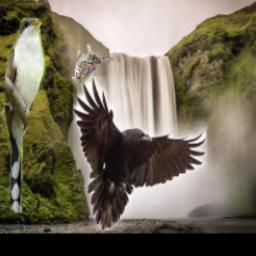Crow: (72, 76, 206, 231)
Cuckoo: (5, 19, 47, 214)
Sparrow: (72, 43, 113, 83)
